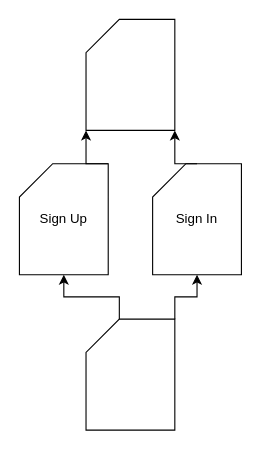
This 261x450 diagram has some shape labels left out. Each missing label, with the centre of its shape:
"Dashboard" goes at [130,74].
"Homepage" goes at [130,374].
